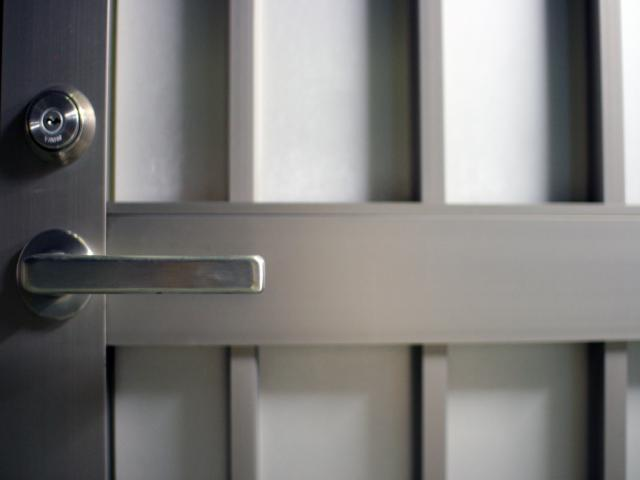Door-handle: (16, 228, 265, 321)
